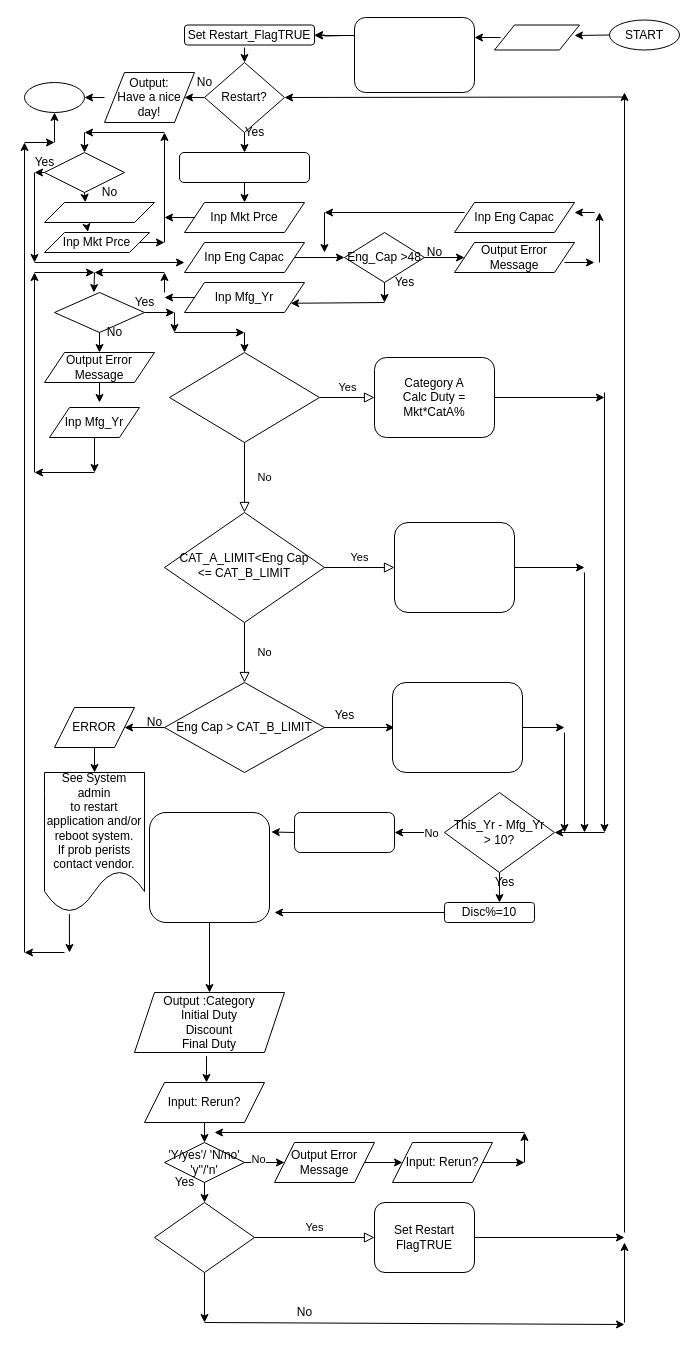
The diagram is 697 pixels wide and 1350 high, and some of its shapes have lost their labels. Here are the shapes that lost their labels. From the top down, the box of each, then its label:
(354, 16, 474, 92): CAT_A_RATE=25% CAT_B_RATE=50% CAT_C_RATE=75% CAT_A_LIMIT=1600 CAT_B_LIMIT=2000
(494, 24, 580, 50): Print Heading
(24, 82, 84, 112): END
(44, 152, 124, 192): Mkt_Pr>0
(178, 152, 310, 182): Set Restart FlagFALSE
(44, 202, 154, 222): Output message
(54, 292, 144, 332): 1885<mfg_yr <=this_yr
(168, 352, 320, 442): Eng Cap <= CAT_A_LIMIT
(394, 522, 514, 612): Category B Calc Duty = Mkt*CatB%
(392, 682, 522, 772): Category C Calc Duty = Mkt*CatC%
(294, 812, 394, 852): Disc%=(This_Yr-Mfg_Yr)
(148, 812, 270, 922): FinalDuty=Duty - Disc%
(154, 1202, 254, 1272): reRun == yes?
